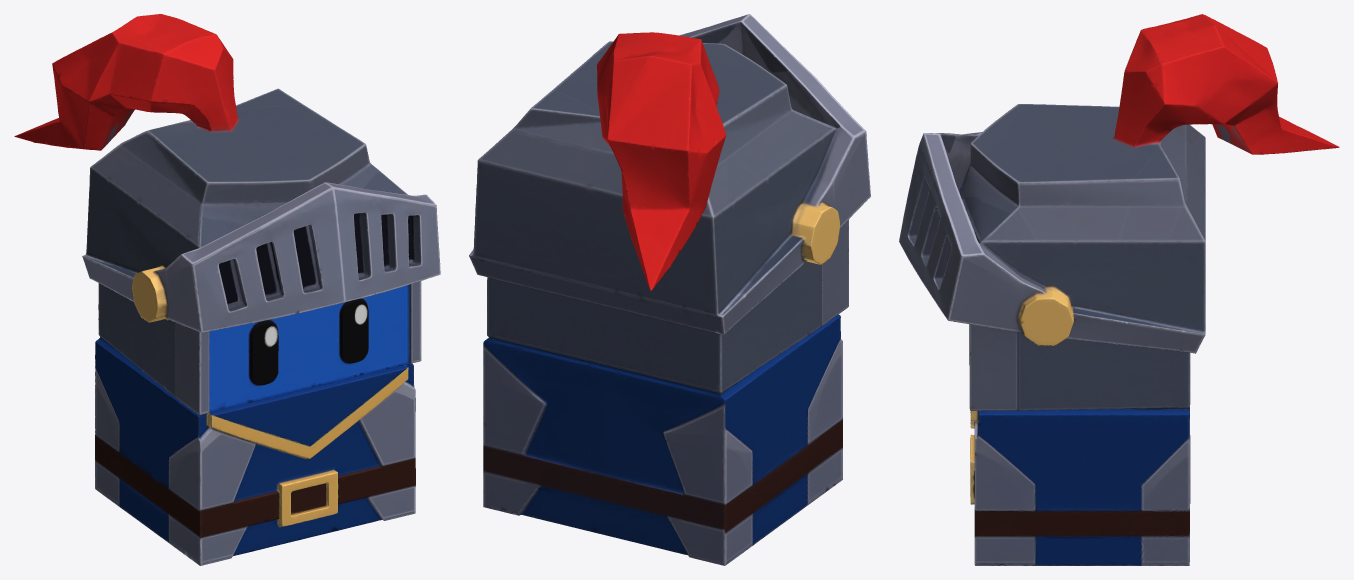
Rendered from cubeknight.glb.
3 views of the same model, side by side, from view 1: azimuth 30°, elevation 25°; view 2: azimuth 150°, elevation 25°; view 3: azimuth 270°, elevation 25° (orthographic). The views are drawn at different scales.
Size of the model in its own units: 1.13 by 1.9 by 1.65.
Materials: 1 (1 with a texture image).
